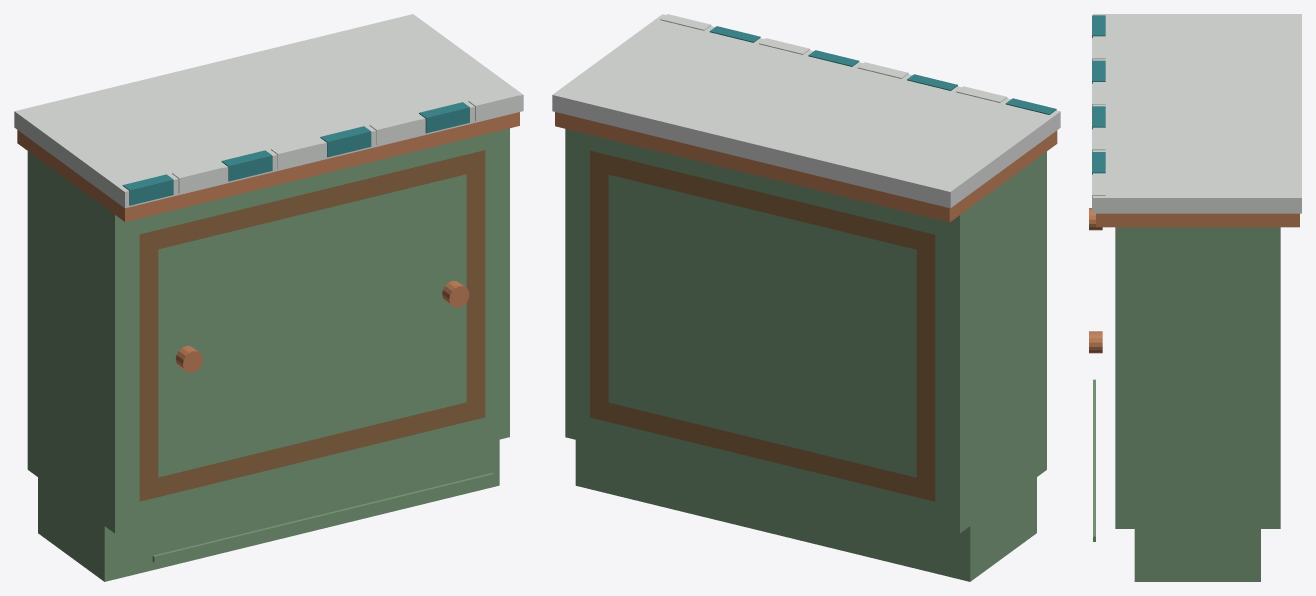
The model's file is kitchenBar.glb.
3 renders of one model, left to right at view 1: azimuth 30°, elevation 25°; view 2: azimuth 150°, elevation 25°; view 3: azimuth 270°, elevation 25°, orthographic. The views are drawn at different scales.
Visible parts, largest first — view 1: kitchenBar(Clone); view 2: kitchenBar(Clone); view 3: kitchenBar(Clone).
Part boxes in pixels (x1=…): kitchenBar(Clone): x1=14, y1=14, x2=523, y2=581; kitchenBar(Clone): x1=552, y1=14, x2=1060, y2=581; kitchenBar(Clone): x1=1089, y1=14, x2=1301, y2=581.
Bounding box in the file's own units: 0.43 × 0.42 × 0.21.
